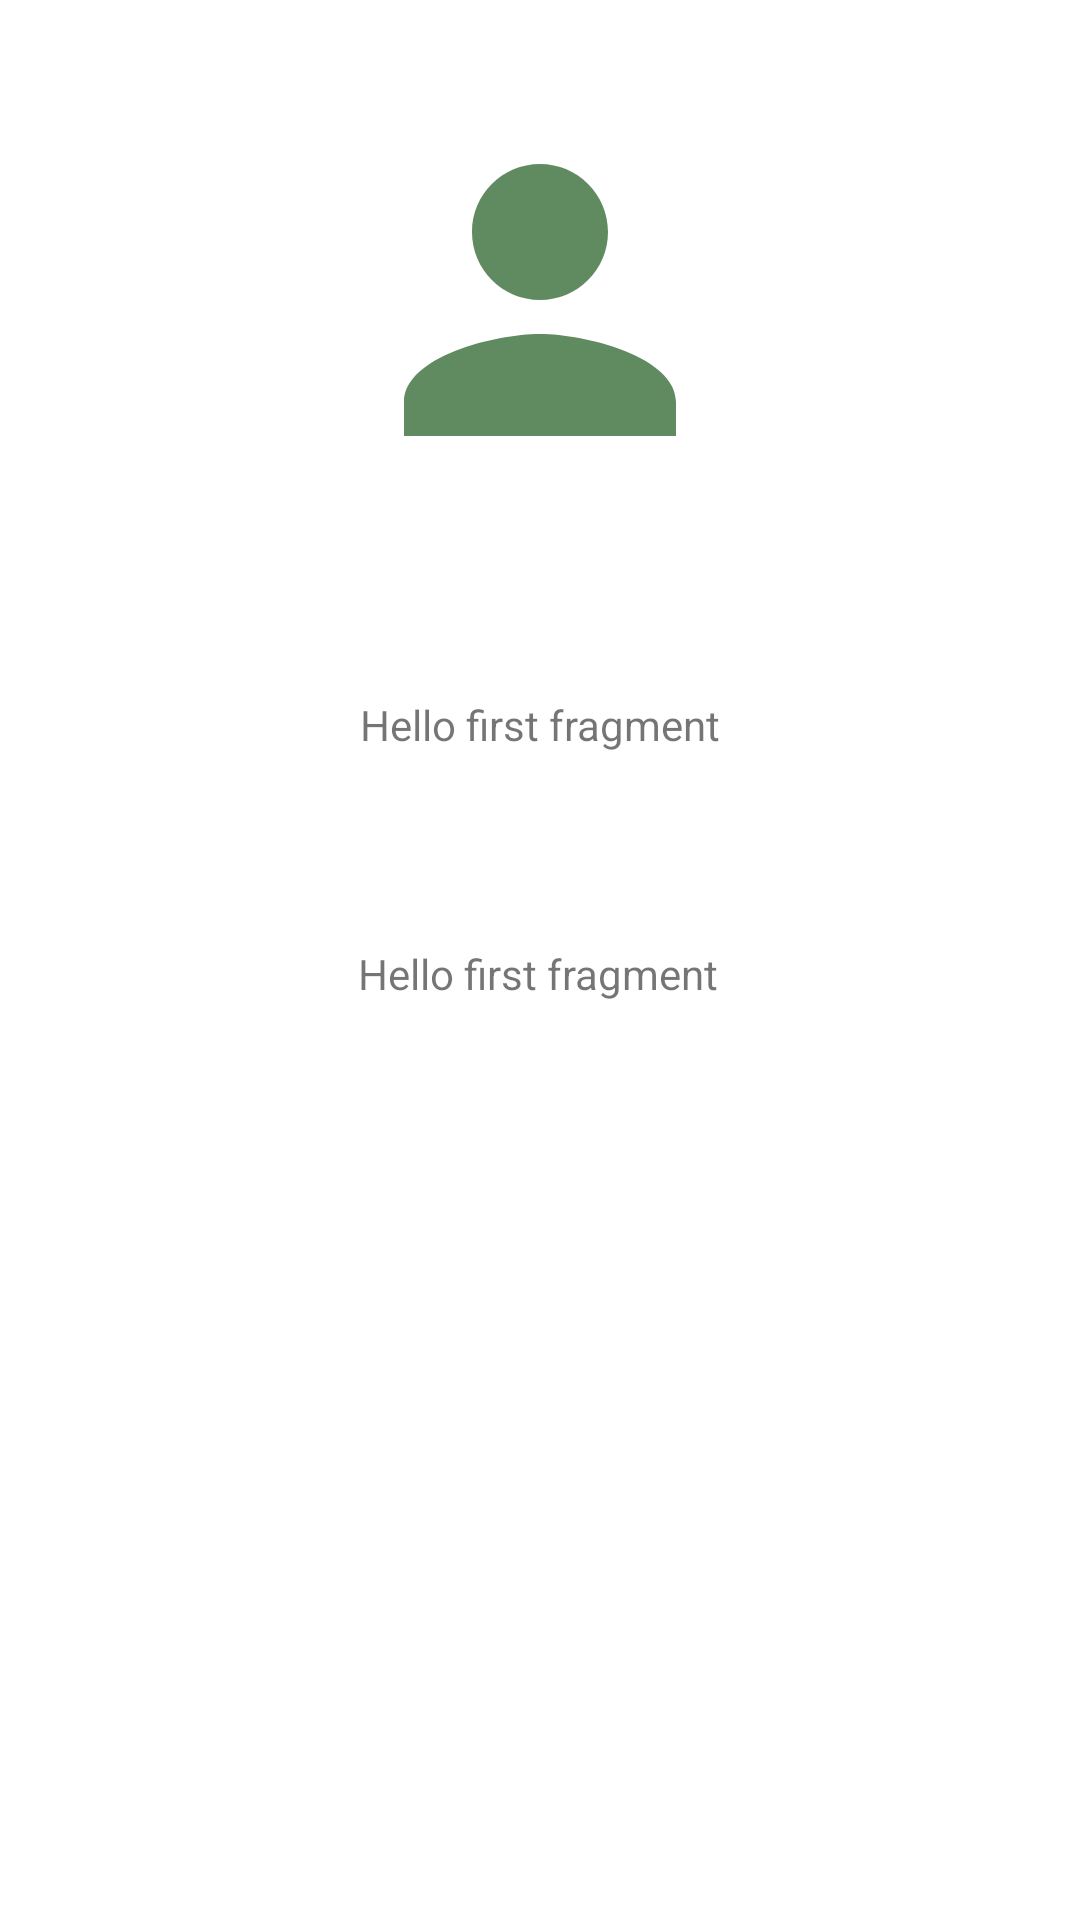

Locate icon controls on the screen. Image size 1080*1920, boxes as (x1, y1, x2, y2).
person: (404, 164, 676, 436)
